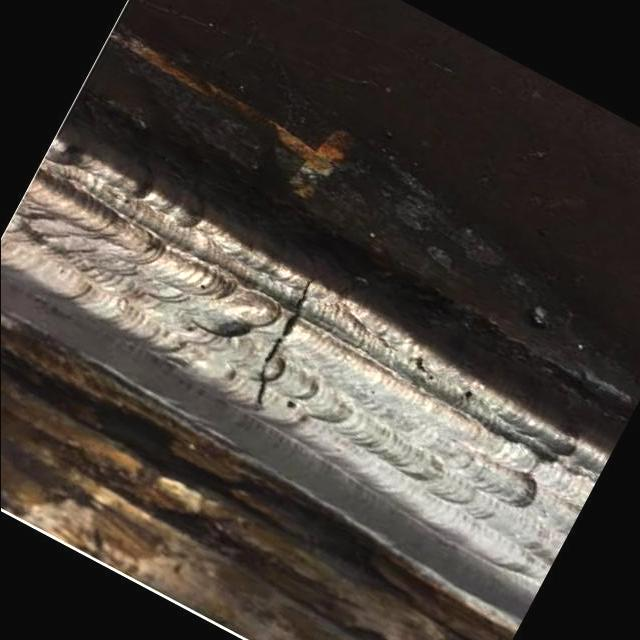defect: (253, 275, 317, 408)
